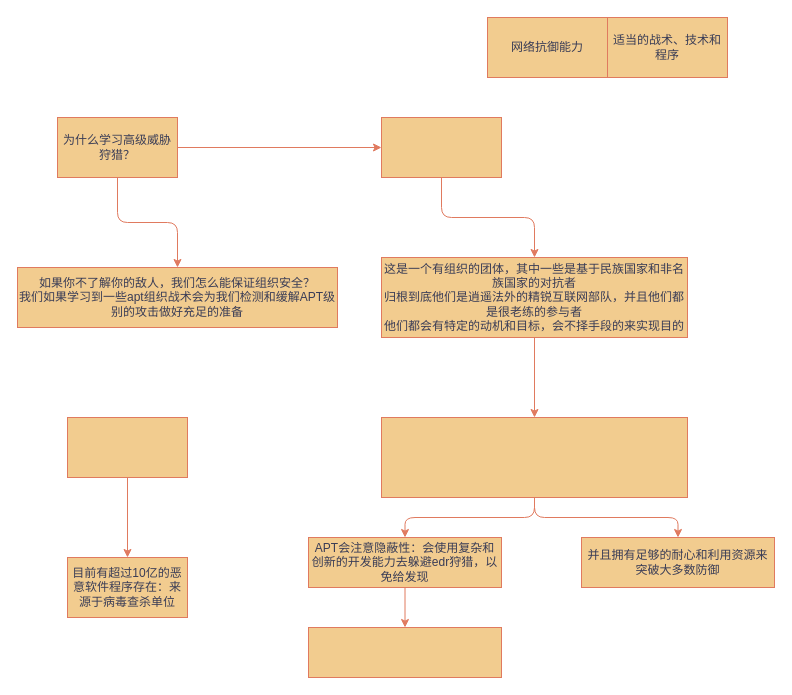
Some shapes in this 792 by 695 pixel diagram are drawn without their labels. The shapes that lost their labels are listed below. From the top down, each one's centre as x and y in pixels, then its label:
At pixel 441 147: "可为APT？".
At pixel 127 447: "数据分析".
At pixel 534 457: "他们日常是需要大量资金来开展活动 资金来源：通常的话是国家赞助，但是里面也有犯罪组织的，例如：黑产".
At pixel 405 652: "尽管给发现了，他们也只是暂时丢失他们现有的能力，但是他们会不断的换思路换工具来尝试".
